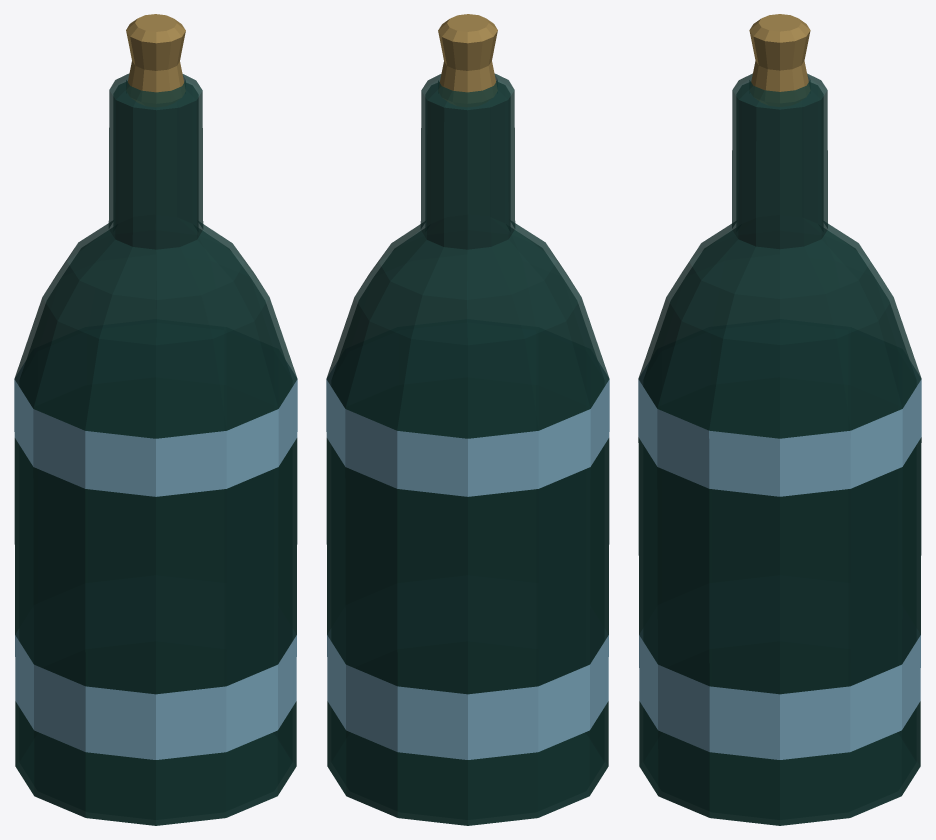
Rendered from Wine Bottle 2.fbx.
3 renders of one model, left to right at view 1: azimuth 30°, elevation 25°; view 2: azimuth 150°, elevation 25°; view 3: azimuth 270°, elevation 25°, orthographic.
Visible parts, largest first — view 1: Wine Bottle 2, Cork; view 2: Wine Bottle 2, Cork; view 3: Wine Bottle 2, Cork.
Part boxes in pixels (x1,y1,x2,y2): Wine Bottle 2: (14,73,297,825); Cork: (126,14,185,106); Wine Bottle 2: (326,73,609,825); Cork: (438,14,497,106); Wine Bottle 2: (638,73,921,825); Cork: (749,14,810,106).
Bounding box in the file's own units: 161 × 467 × 161.
